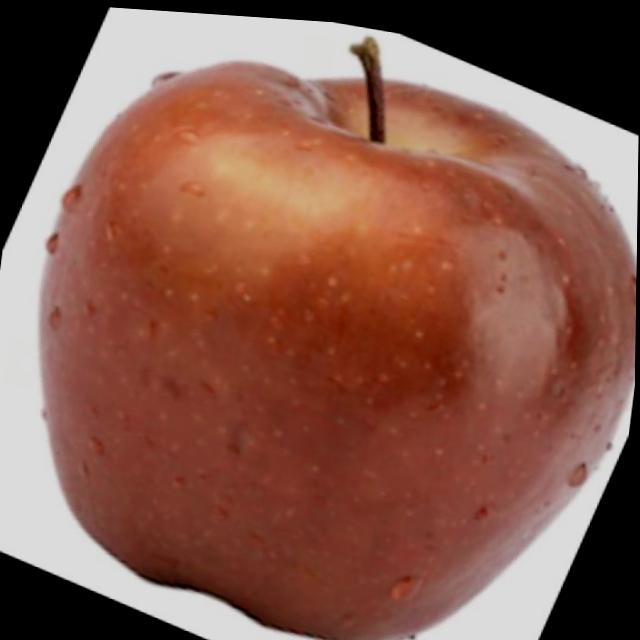Apple: (3, 1, 640, 640)
